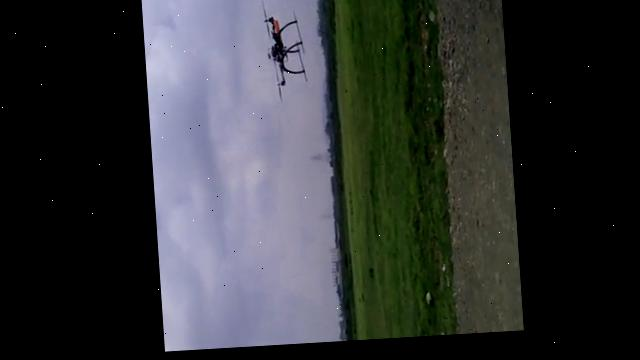drone: (259, 2, 306, 110)
